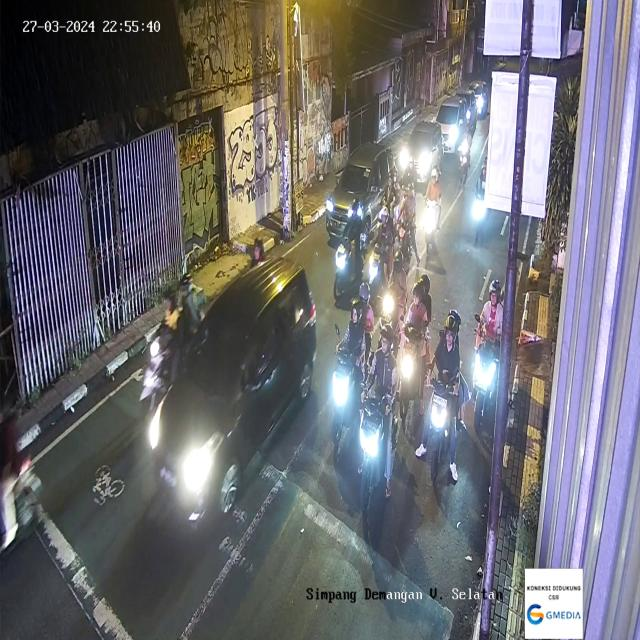car: (149, 250, 317, 520), (327, 140, 395, 239), (401, 121, 447, 188), (433, 93, 465, 152)
motorcycle: (422, 305, 472, 499), (140, 276, 208, 418), (361, 336, 402, 519), (331, 292, 372, 454), (402, 274, 436, 434), (472, 278, 507, 419), (376, 248, 407, 364), (336, 204, 366, 306), (422, 173, 445, 264), (468, 157, 492, 234), (458, 121, 474, 188)
